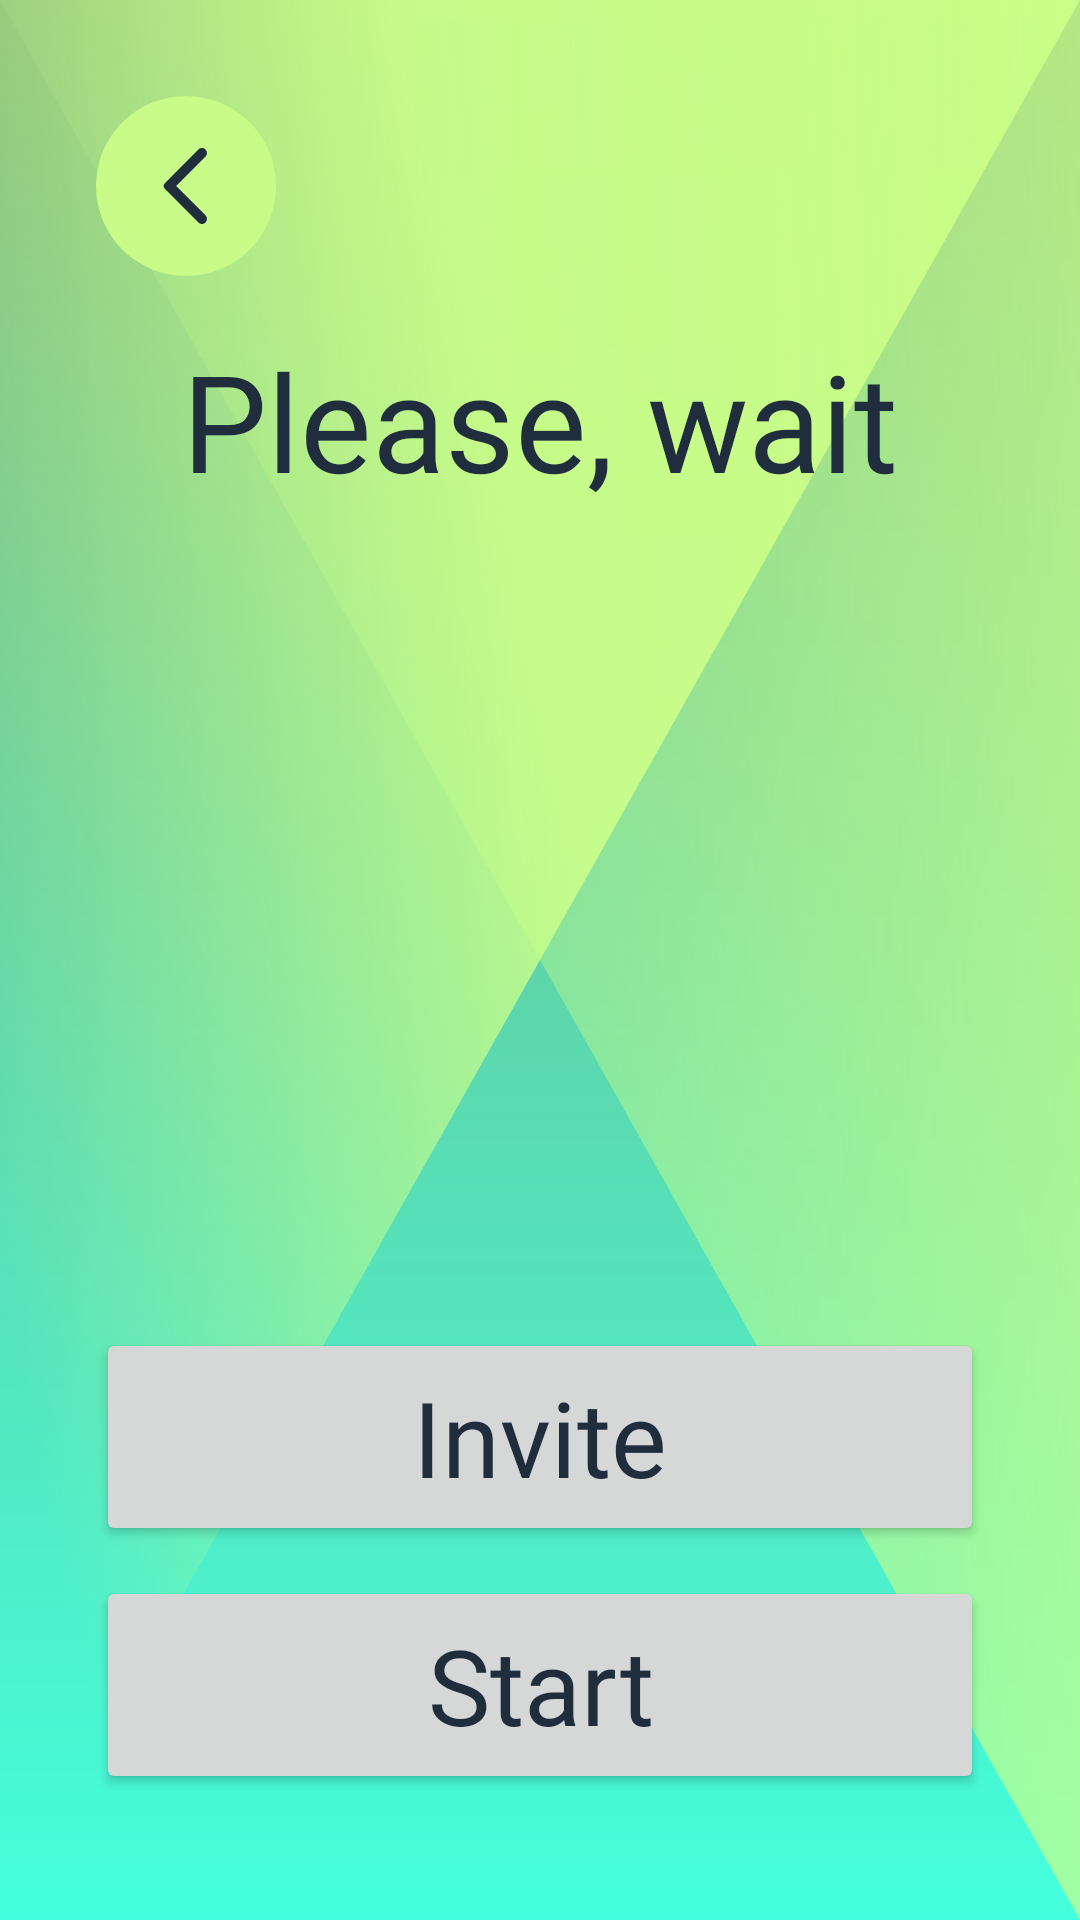

Screen size 1080w x 1920h. Icon name, then its center in pixels as point (x, y):
return: point (186, 186)
